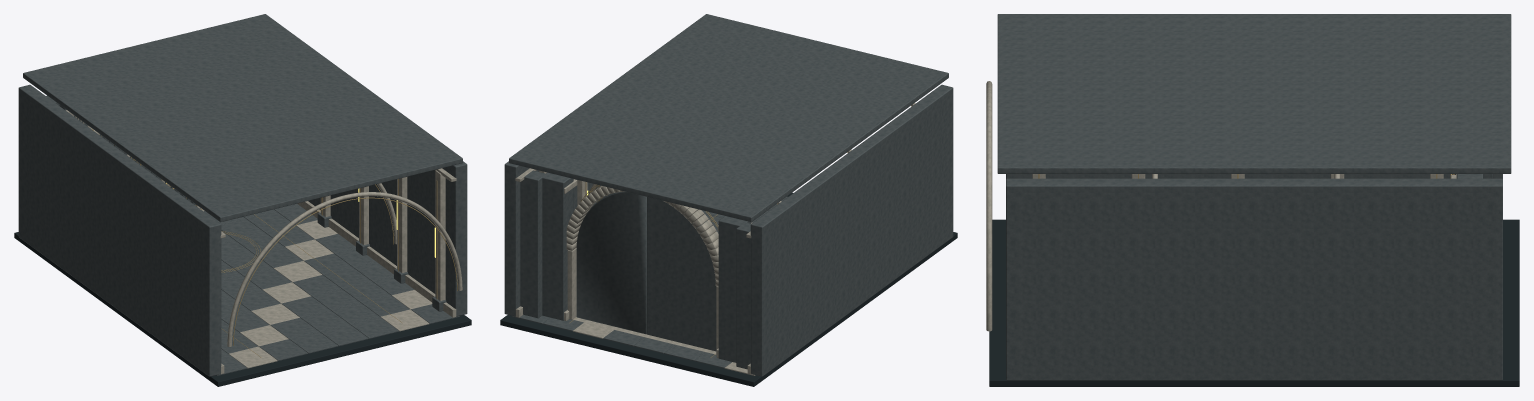
Rendered from foyer-v2.glb.
3 views of the same model, side by side, from view 1: azimuth 30°, elevation 25°; view 2: azimuth 150°, elevation 25°; view 3: azimuth 270°, elevation 25° (orthographic). The views are drawn at different scales.
Parts seen in each view (by area): view 1: Static__Basalt, Static__Limestone, Static__Graphite_joints, Static__Brushed_brass; view 2: Static__Basalt, Door_Right__Basalt, Door_Left__Basalt, Static__Limestone, Static__Graphite_joints; view 3: Static__Basalt, Static__Graphite_joints, Static__Limestone.
Part boxes in pixels (x1=…): Static__Basalt: x1=18, y1=14, x2=467, y2=376; Static__Limestone: x1=66, y1=110, x2=462, y2=374; Static__Graphite_joints: x1=14, y1=232, x2=471, y2=386; Static__Brushed_brass: x1=92, y1=129, x2=457, y2=357; Static__Basalt: x1=504, y1=14, x2=953, y2=376; Door_Right__Basalt: x1=576, y1=191, x2=646, y2=334; Door_Left__Basalt: x1=647, y1=197, x2=716, y2=351; Static__Limestone: x1=515, y1=103, x2=915, y2=375; Static__Graphite_joints: x1=500, y1=192, x2=957, y2=386; Static__Basalt: x1=997, y1=14, x2=1511, y2=380; Static__Graphite_joints: x1=989, y1=219, x2=1519, y2=386; Static__Limestone: x1=986, y1=81, x2=1456, y2=331.
Size of the model in its own units: 23.4 by 14.38 by 32.18.
5 materials, 2 textured.
